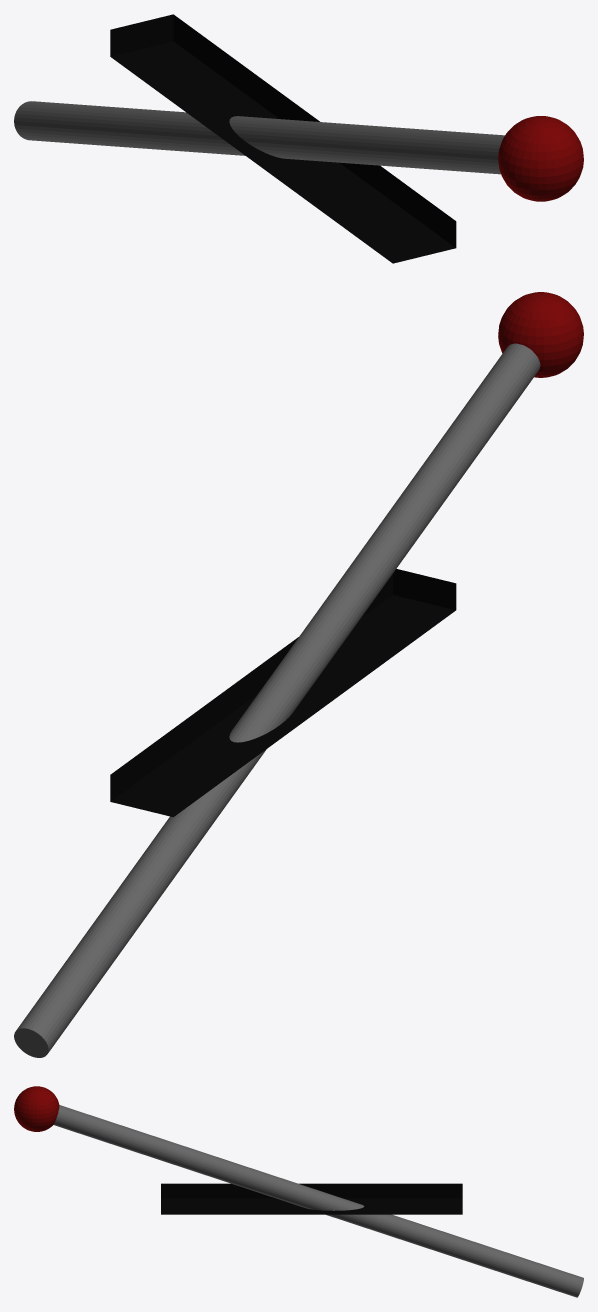
Rendered from lever.fbx.
3 renders of one model, top to bottom at view 1: azimuth 30°, elevation 25°; view 2: azimuth 150°, elevation 25°; view 3: azimuth 270°, elevation 25°, orthographic. The views are drawn at different scales.
Parts seen in each view (by area): view 1: Cube, Cylinder, Sphere; view 2: Cylinder, Cube, Sphere; view 3: Cylinder, Cube, Sphere.
Boxes of the visible parts, x1,y1,x2,y2 form: Cube: [110, 14, 456, 263]; Cylinder: [14, 101, 504, 174]; Sphere: [498, 116, 583, 201]; Cylinder: [14, 343, 540, 1057]; Cube: [110, 569, 456, 817]; Sphere: [498, 292, 583, 377]; Cylinder: [54, 1105, 583, 1297]; Cube: [161, 1183, 462, 1214]; Sphere: [14, 1086, 59, 1131].
Size of the model in its own units: 22.6 by 113 by 281.
